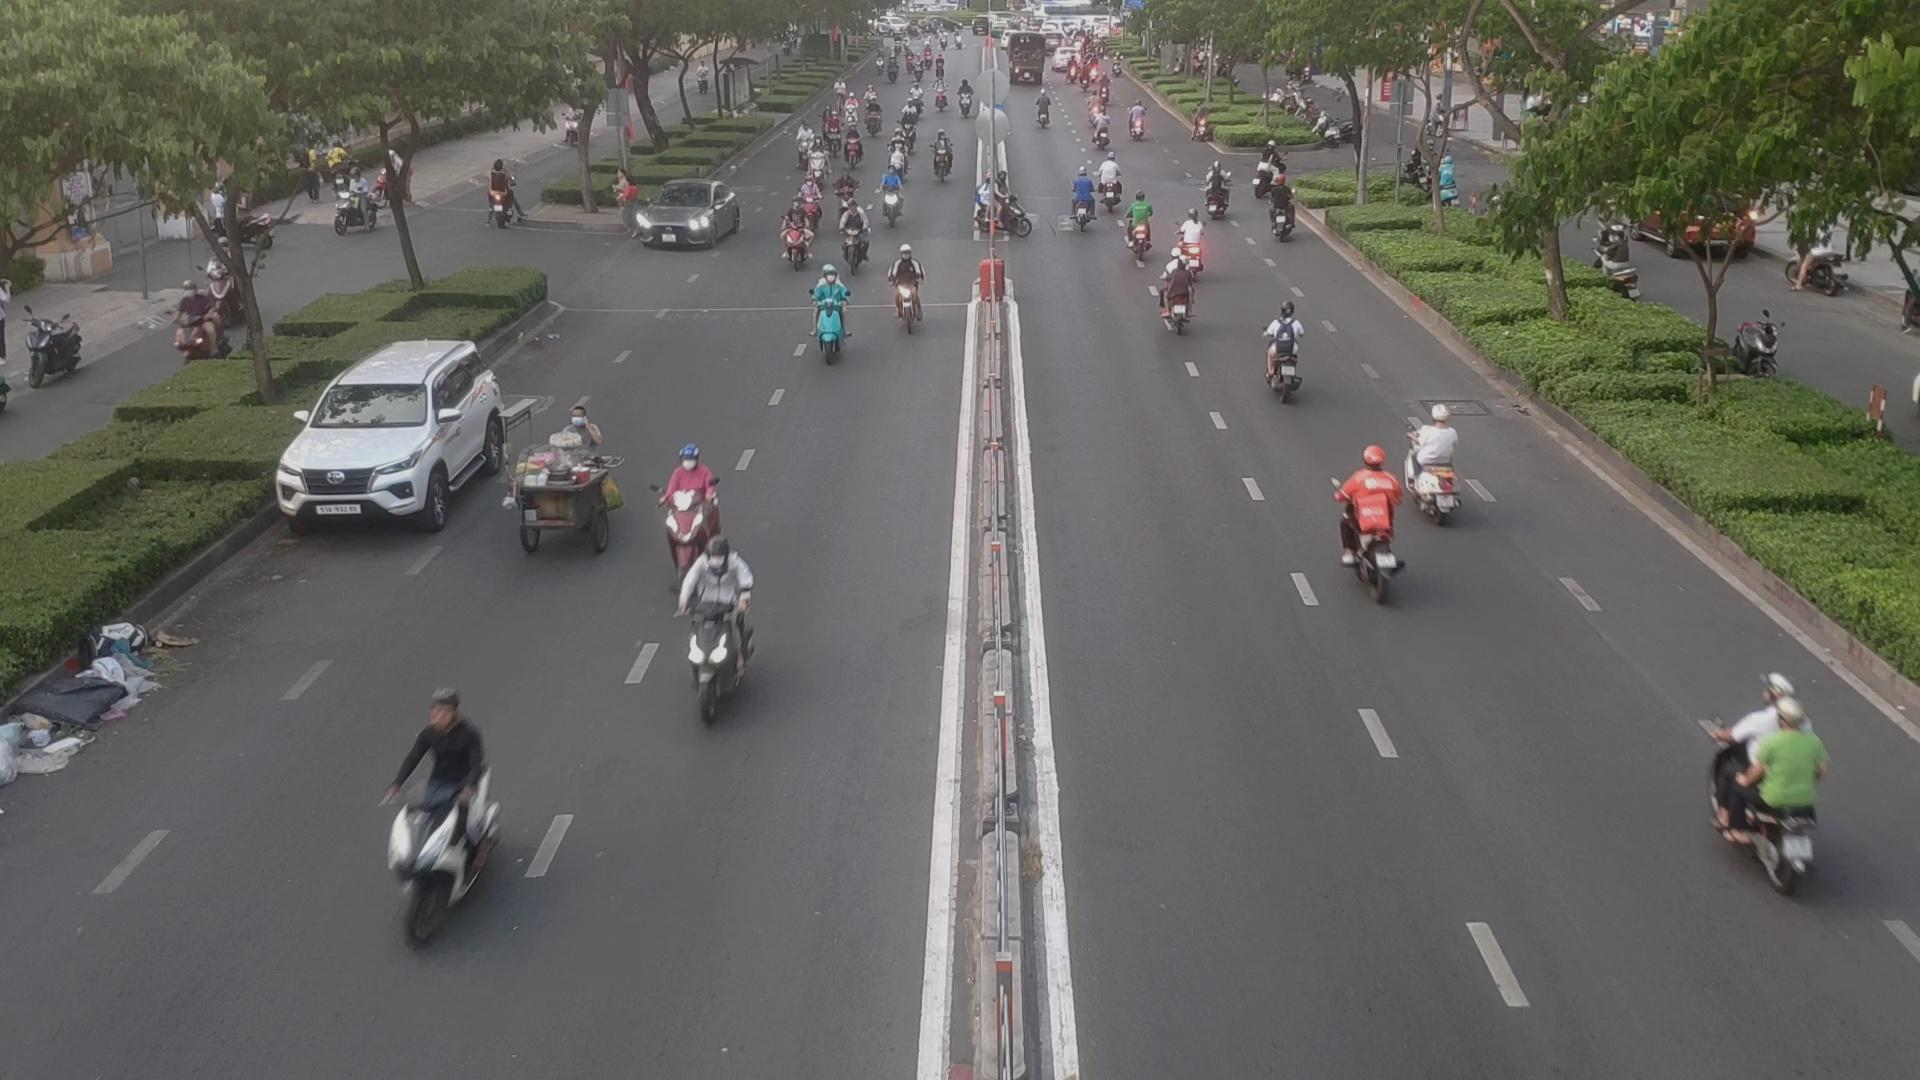car: (276, 349, 529, 538), (629, 189, 756, 255)
motorbike: (367, 720, 510, 947), (1700, 680, 1842, 895), (673, 545, 767, 733), (1327, 462, 1414, 605), (1395, 415, 1476, 531), (650, 447, 725, 566), (1254, 314, 1312, 404), (802, 284, 858, 367), (882, 261, 928, 342), (1156, 269, 1199, 336), (1168, 223, 1212, 285), (1062, 174, 1104, 233), (779, 210, 819, 272), (1124, 200, 1160, 262), (837, 211, 874, 268), (872, 175, 907, 225), (931, 142, 957, 185), (844, 132, 869, 167), (1034, 99, 1058, 131)
